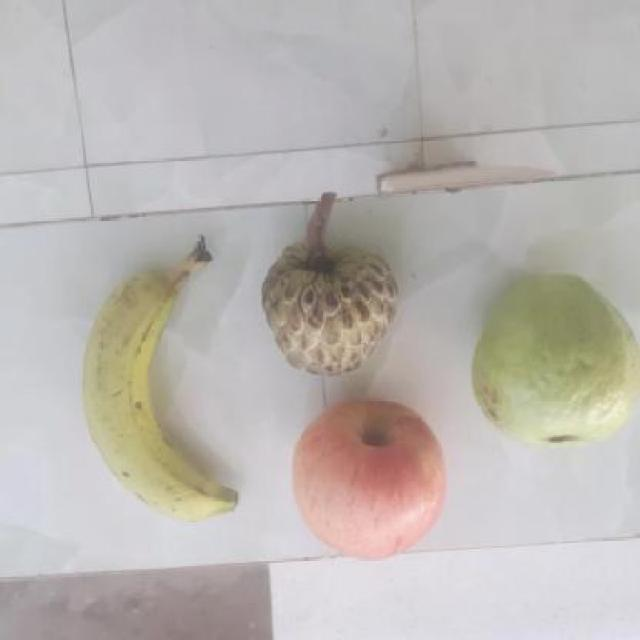apple: (287, 402, 456, 562)
banana: (84, 258, 242, 520)
guava: (475, 277, 639, 445)
sugar apple: (262, 213, 402, 378)
